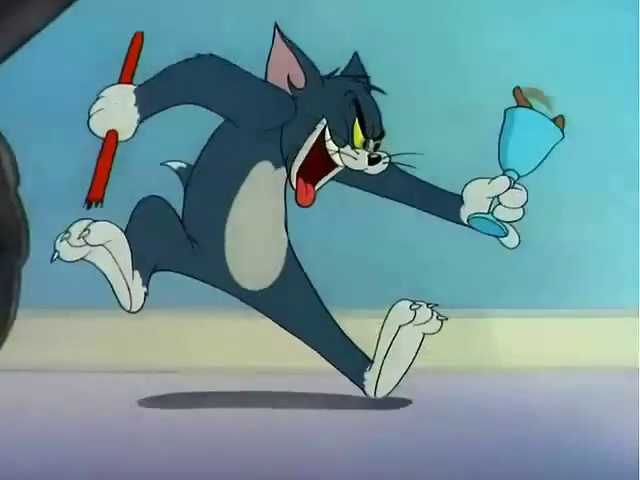tom: (93, 19, 475, 418)
